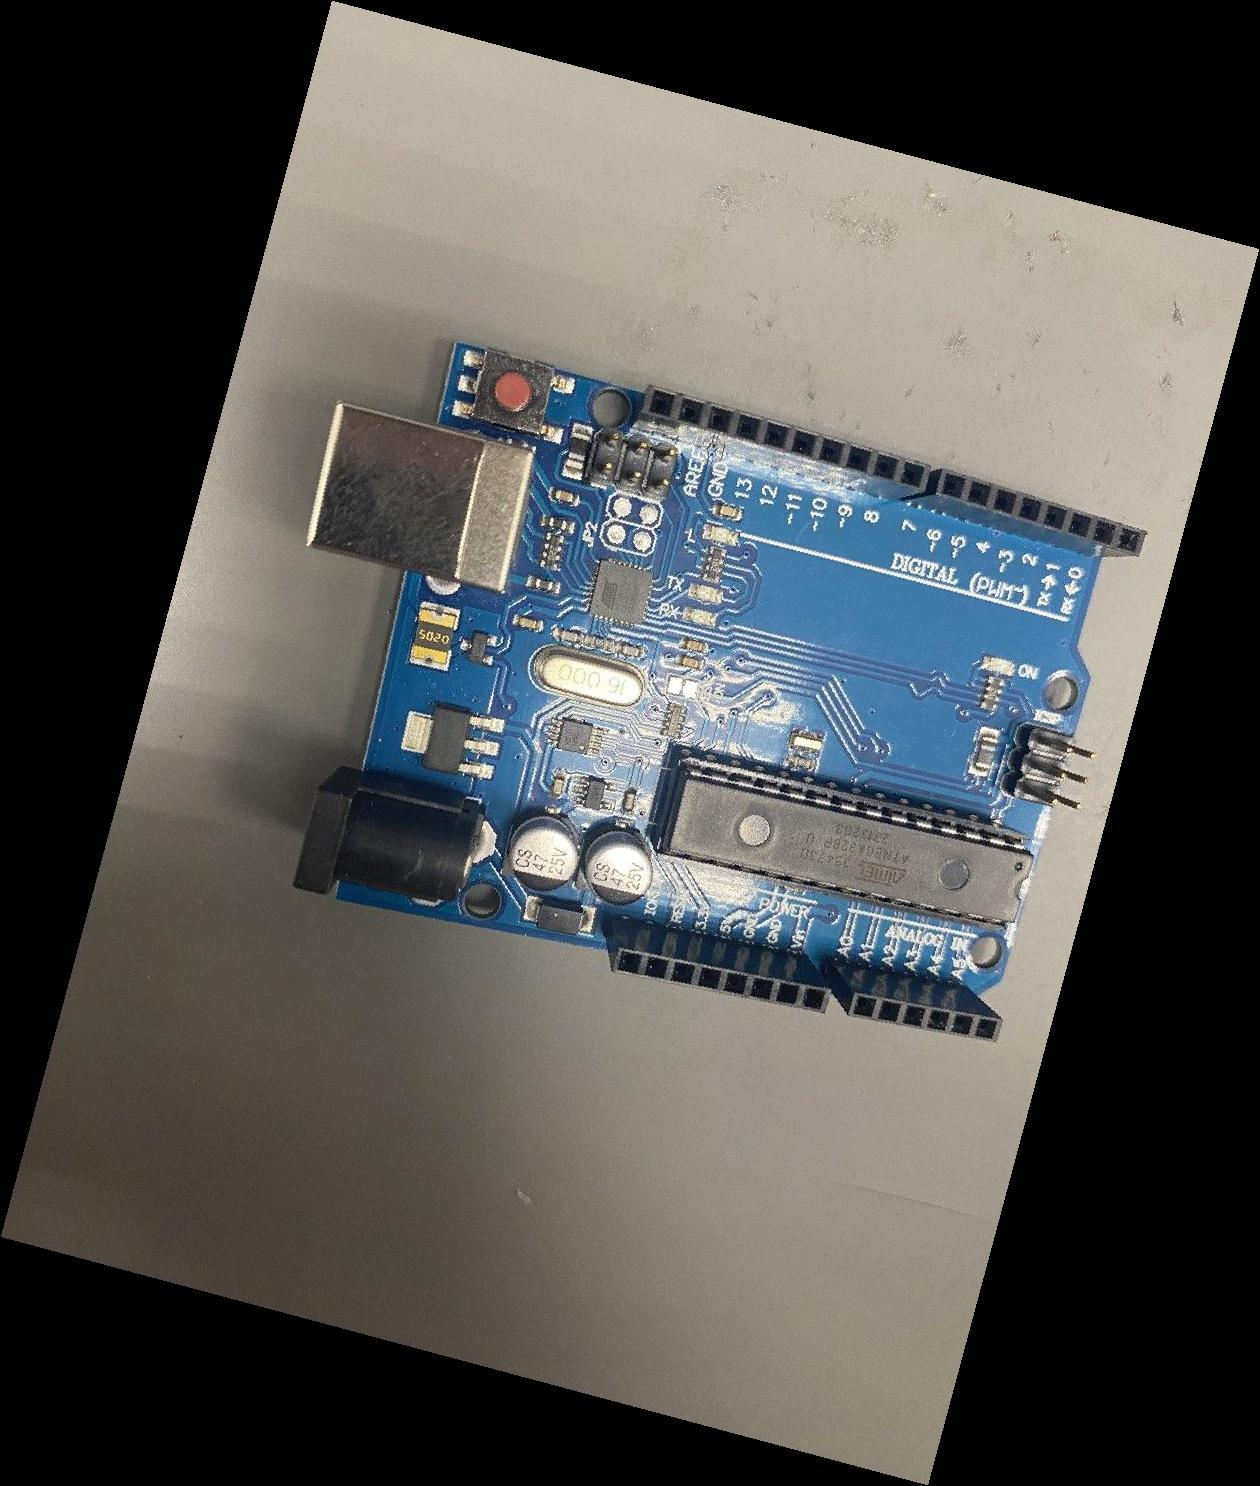ATmega328 chip: (656, 744, 1034, 934)
Arduino board: (293, 340, 1148, 1043)
USB: (305, 400, 535, 594)
capacitor: (508, 815, 579, 892), (585, 831, 653, 906)
pins: (631, 386, 930, 501), (603, 914, 832, 1014), (900, 468, 1148, 558), (823, 959, 1003, 1043)
resistor: (701, 545, 728, 585), (539, 532, 566, 572), (660, 703, 689, 740), (979, 676, 1005, 712)
